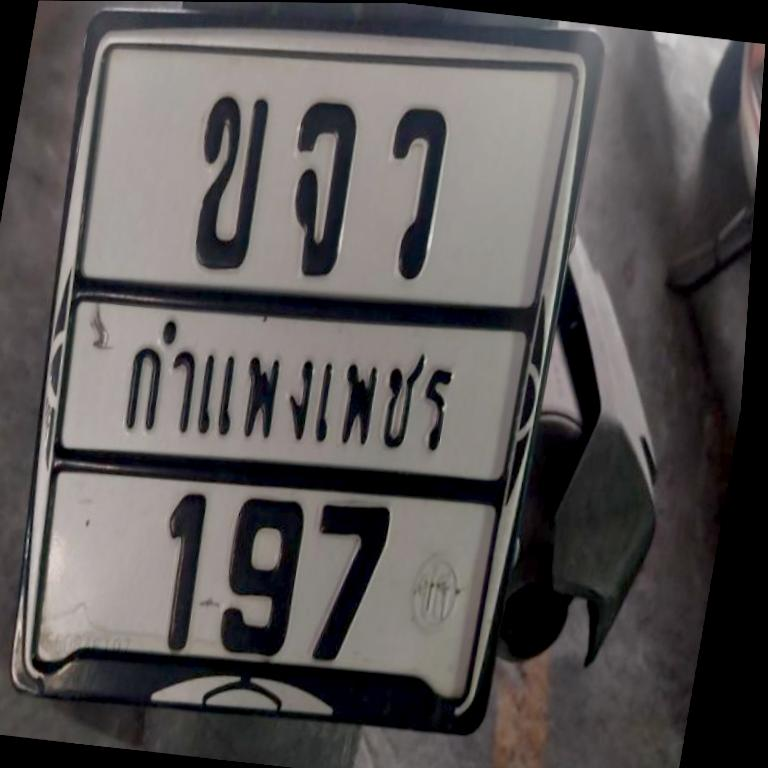license plate: (13, 10, 602, 732)
